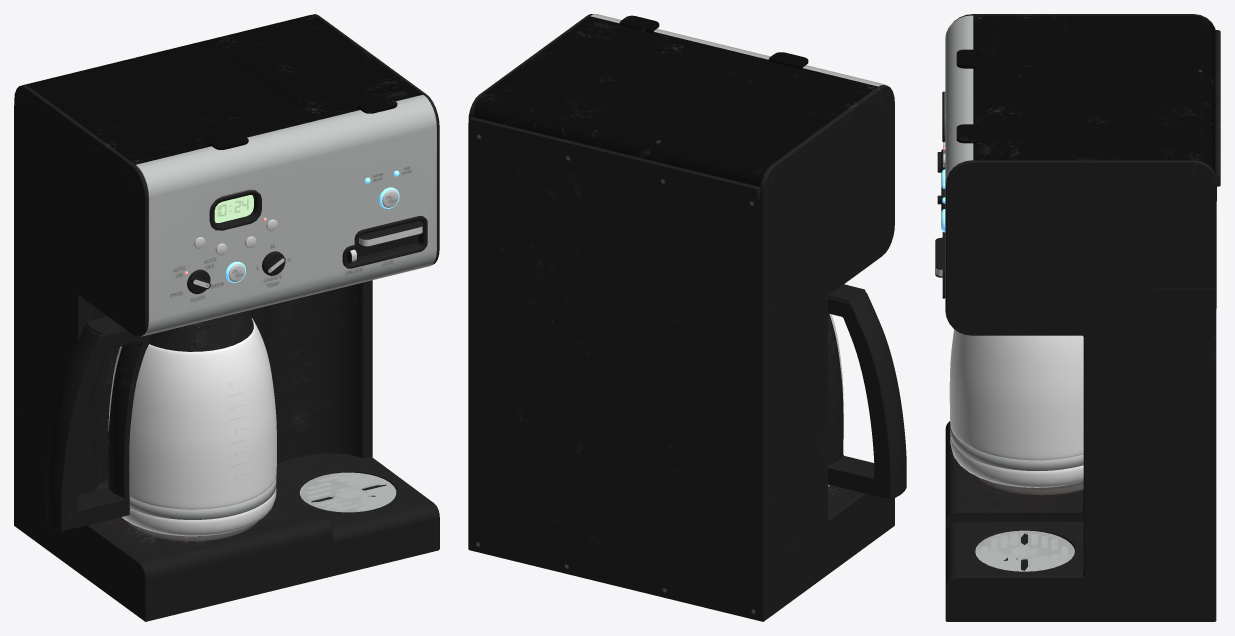
The model's file is coffeemachine.fbx.
The picture shows the model from 3 angles, left to right: view 1: azimuth 30°, elevation 25°; view 2: azimuth 150°, elevation 25°; view 3: azimuth 270°, elevation 25°; orthographic projection. The views are drawn at different scales.
Visible parts, largest first — view 1: base_Coffeemachine, cup_glass, cup_main; view 2: base_Coffeemachine, cup_main; view 3: base_Coffeemachine, cup_glass, cup_main.
Boxes of the visible parts, box(x1,y1,x2,y2) form: base_Coffeemachine: box(14, 14, 439, 621); cup_glass: box(108, 318, 276, 536); cup_main: box(45, 310, 276, 531); base_Coffeemachine: box(468, 14, 894, 621); cup_main: box(828, 284, 906, 499); base_Coffeemachine: box(935, 14, 1220, 621); cup_glass: box(949, 329, 1083, 487); cup_main: box(950, 424, 1083, 471).
Size of the model in its own units: 237 by 296 by 165.
